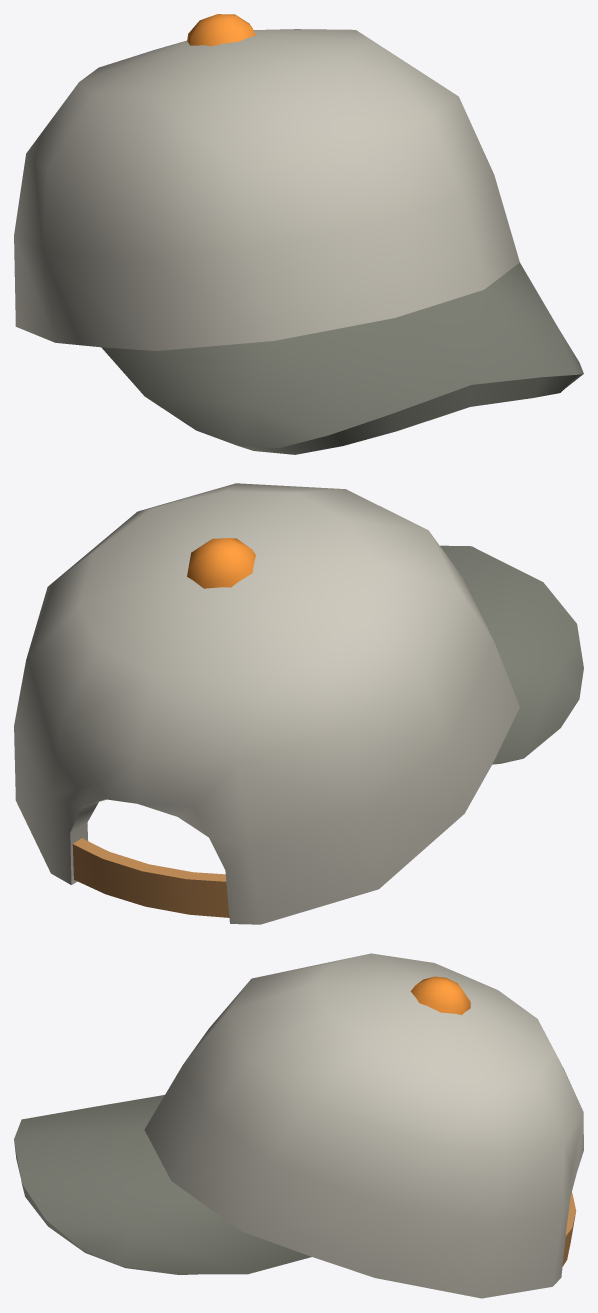
Rendered from Headgear_3.fbx.
3 views of the same model, one above another, from view 1: azimuth 30°, elevation 25°; view 2: azimuth 150°, elevation 25°; view 3: azimuth 270°, elevation 25° (orthographic). The views are drawn at different scales.
Visible parts, largest first — view 1: Headgear_3; view 2: Headgear_3; view 3: Headgear_3.
Boxes of the visible parts, bbox=[...] form: Headgear_3: bbox=[14, 14, 583, 454]; Headgear_3: bbox=[14, 483, 583, 924]; Headgear_3: bbox=[14, 953, 583, 1298].
Bounding box in the file's own units: 73.93 × 53.53 × 104.
